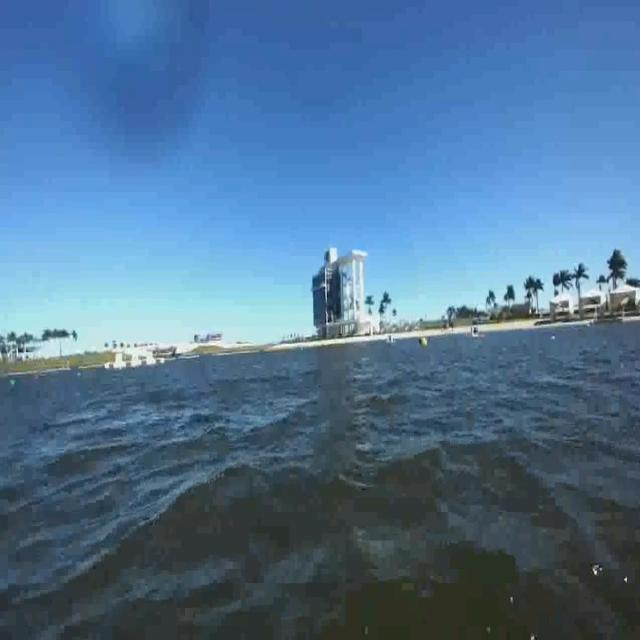yellow-buoy: (421, 337, 428, 350)
